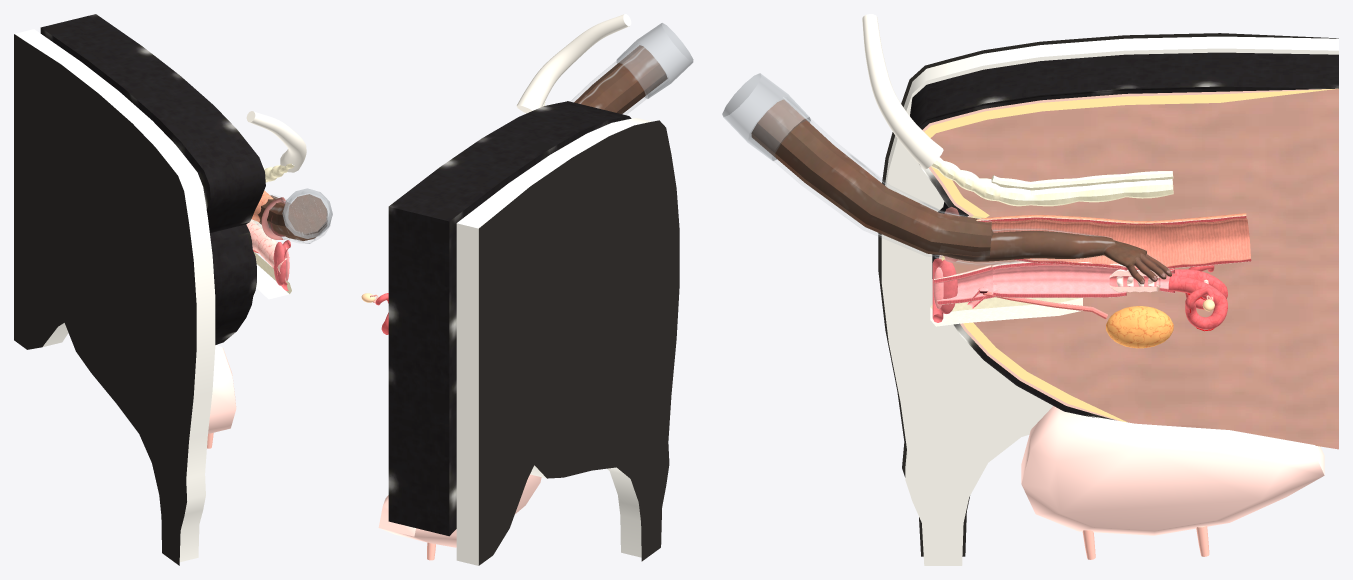
Rendered from tract-B1-hpLXt.glb.
3 views of the same model, side by side, from view 1: azimuth 30°, elevation 25°; view 2: azimuth 150°, elevation 25°; view 3: azimuth 270°, elevation 25° (orthographic). The views are drawn at different scales.
Visible parts, largest first — view 1: TR_body_far, TR_skin_section, HAND_sleeve, TR_udder, TR_tail_section, TR_pelvis, TR_vulva, TR_vestibule, TR_anus; view 2: TR_body_far, TR_skin_section, HAND_sleeve, TR_tail_section, TR_udder; view 3: TR_skin_section, TR_body_far, TR_udder, HAND_sleeve, TR_rectum, TR_sacrum, TR_vagina, HAND_forearm, TR_tail_section, TR_pelvis, TR_bladder, TR_horn_right (+4 smaller).
Boxes of the visible parts, x1,y1,x2,y2 form: TR_body_far: [14, 29, 215, 565]; TR_skin_section: [40, 14, 265, 344]; HAND_sleeve: [256, 188, 332, 243]; TR_udder: [207, 345, 236, 448]; TR_tail_section: [246, 111, 306, 172]; TR_pelvis: [254, 252, 291, 299]; TR_vulva: [273, 242, 289, 285]; TR_vestibule: [254, 232, 289, 273]; TR_anus: [261, 197, 285, 239]; TR_body_far: [456, 118, 679, 565]; TR_skin_section: [388, 101, 631, 536]; HAND_sleeve: [571, 23, 693, 114]; TR_tail_section: [516, 14, 631, 113]; TR_udder: [378, 474, 541, 560]; TR_skin_section: [910, 52, 1338, 449]; TR_body_far: [878, 33, 1338, 565]; TR_udder: [1021, 406, 1324, 559]; HAND_sleeve: [722, 73, 993, 258]; TR_rectum: [976, 213, 1251, 269]; TR_sacrum: [931, 157, 1173, 206]; TR_vagina: [992, 261, 1126, 297]; HAND_forearm: [935, 228, 1115, 265]; TR_tail_section: [862, 14, 943, 169]; TR_pelvis: [930, 297, 1082, 326]; TR_bladder: [1106, 306, 1173, 348]; TR_horn_right: [1168, 275, 1227, 329].
Bounding box in the file's own units: 0.4844 × 1.34 × 1.3.
43 materials, 25 textured.
